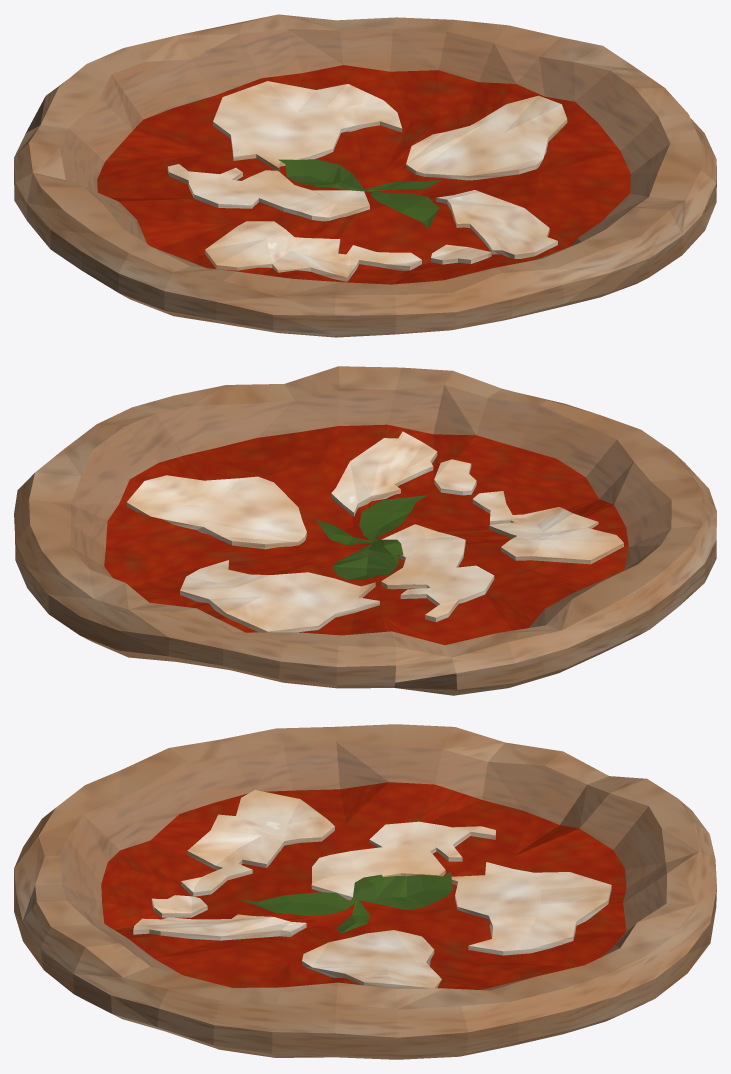
The model's file is pizza_v5_3.glb.
3 renders of one model, top to bottom at view 1: azimuth 30°, elevation 25°; view 2: azimuth 150°, elevation 25°; view 3: azimuth 270°, elevation 25°, orthographic.
Parts seen in each view (by area): view 1: Pizza v3.base.001; view 2: Pizza v3.base.001; view 3: Pizza v3.base.001.
Boxes of the visible parts, <box> form: Pizza v3.base.001: <box>14,14,716,337</box>; Pizza v3.base.001: <box>14,366,716,695</box>; Pizza v3.base.001: <box>14,724,716,1059</box>.
Size of the model in its own units: 0.3481 by 0.0353 by 0.3458.
Materials: 5 (5 with a texture image).
